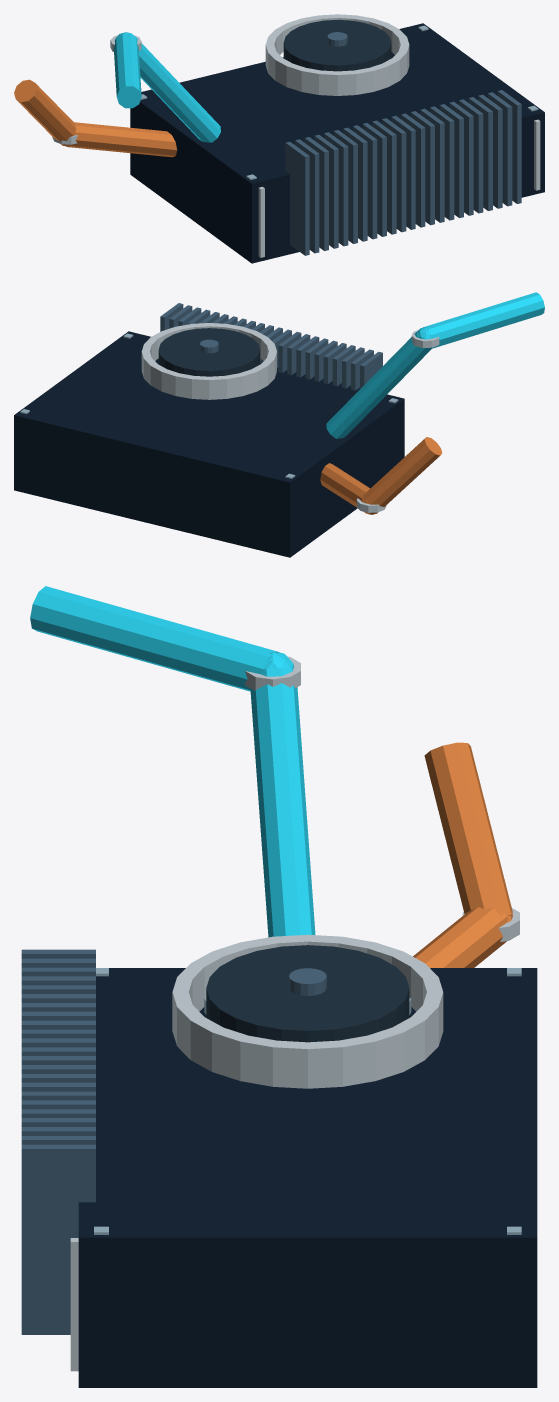
File: 36_L73_PolishingCoolingLoop.fbx
3 views of the same model, one above another, from view 1: azimuth 30°, elevation 25°; view 2: azimuth 150°, elevation 25°; view 3: azimuth 270°, elevation 25° (orthographic). The views are drawn at different scales.
Parts seen in each view (by area): view 1: PolishingCoolingLoop, PolishingCoolingLoop_Part_0008, PolishingCoolingLoop_Part_0007; view 2: PolishingCoolingLoop, PolishingCoolingLoop_Part_0008, PolishingCoolingLoop_Part_0007; view 3: PolishingCoolingLoop, PolishingCoolingLoop_Part_0008, PolishingCoolingLoop_Part_0007, PolishingCoolingLoop_Part_0016.
Boxes of the visible parts, left/top/right/bottom form: PolishingCoolingLoop: left=14, top=23, right=544, bottom=263; PolishingCoolingLoop_Part_0008: left=265, top=14, right=409, bottom=95; PolishingCoolingLoop_Part_0007: left=283, top=20, right=391, bottom=71; PolishingCoolingLoop: left=14, top=292, right=544, bottom=557; PolishingCoolingLoop_Part_0008: left=141, top=323, right=276, bottom=399; PolishingCoolingLoop_Part_0007: left=158, top=328, right=259, bottom=376; PolishingCoolingLoop: left=21, top=586, right=537, bottom=1387; PolishingCoolingLoop_Part_0008: left=172, top=934, right=443, bottom=1088; PolishingCoolingLoop_Part_0007: left=206, top=945, right=409, bottom=1042; PolishingCoolingLoop_Part_0016: left=289, top=968, right=326, bottom=995.
Size of the model in its own units: 217 by 103 by 118.
